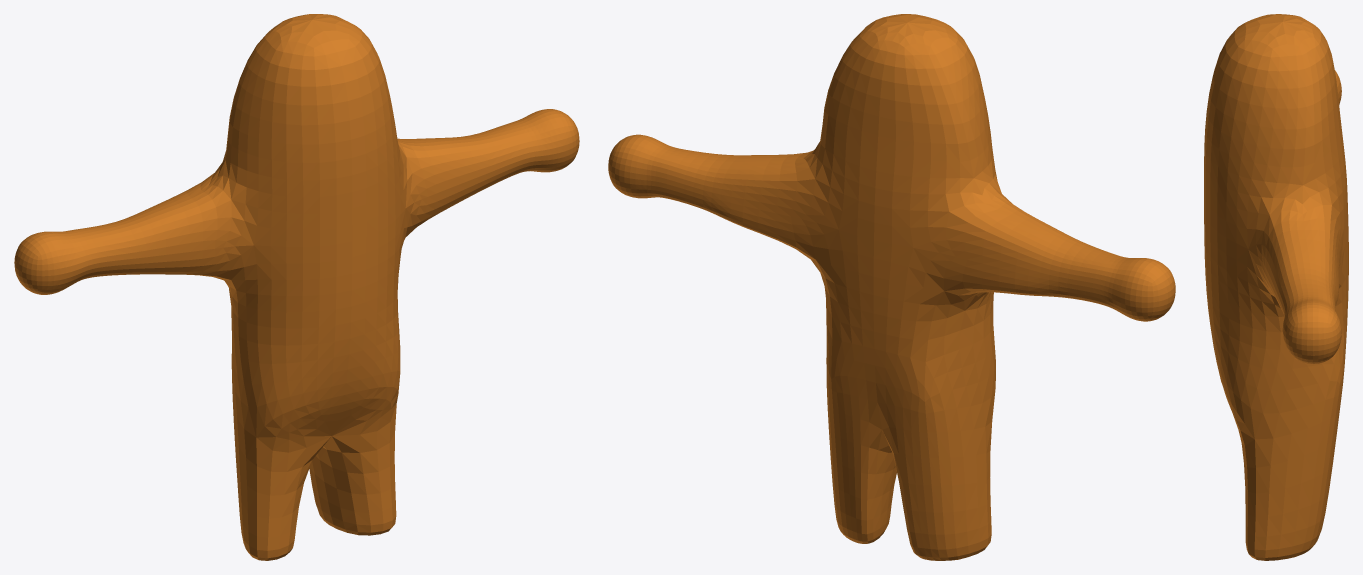
File: sluck.fbx
The picture shows the model from 3 angles, left to right: view 1: azimuth 30°, elevation 25°; view 2: azimuth 150°, elevation 25°; view 3: azimuth 270°, elevation 25°; orthographic projection. The views are drawn at different scales.
Visible parts, largest first — view 1: Object_6; view 2: Object_6; view 3: Object_6.
Part boxes in pixels (left/top/right/bottom): Object_6: left=14, top=14, right=579, bottom=560; Object_6: left=608, top=14, right=1175, bottom=560; Object_6: left=1204, top=14, right=1348, bottom=560.
Bounding box in the file's own units: 791 × 181 × 704.
